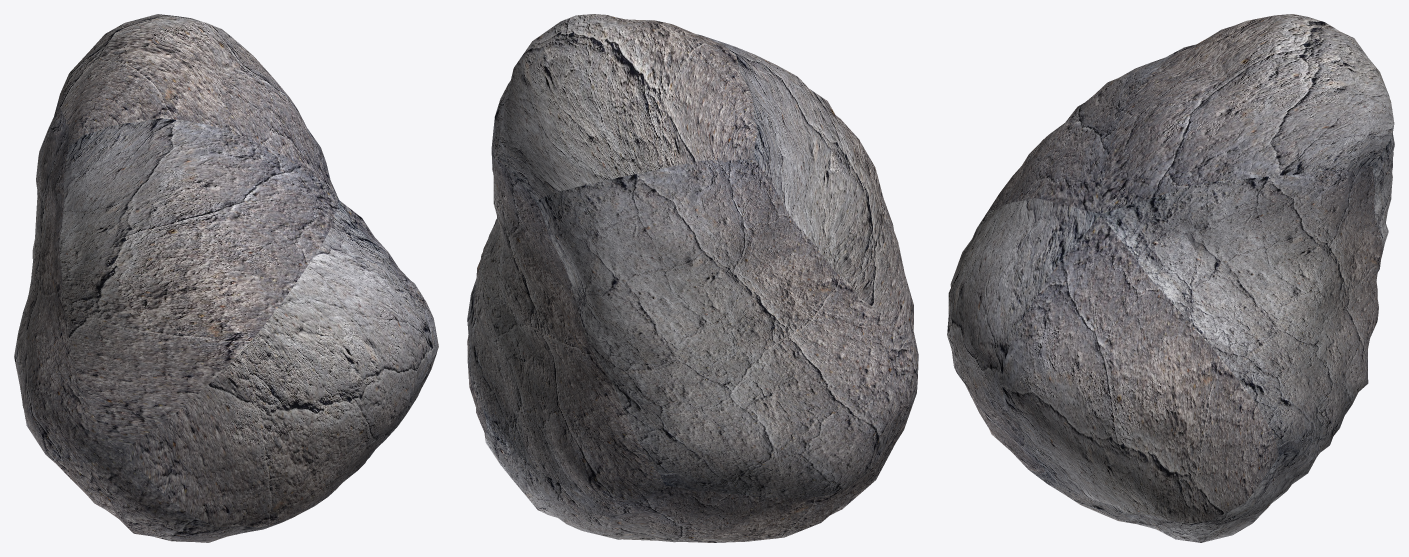
File: Rock.fbx
3 renders of one model, left to right at view 1: azimuth 30°, elevation 25°; view 2: azimuth 150°, elevation 25°; view 3: azimuth 270°, elevation 25°, orthographic. The views are drawn at different scales.
Parts seen in each view (by area): view 1: rock; view 2: rock; view 3: rock.
Part boxes in pixels (box(x1,y1,x2,y2)): rock: box(14, 14, 438, 542); rock: box(467, 14, 918, 542); rock: box(947, 14, 1394, 542).
Bounding box in the file's own units: 93.53 × 88.88 × 113.
